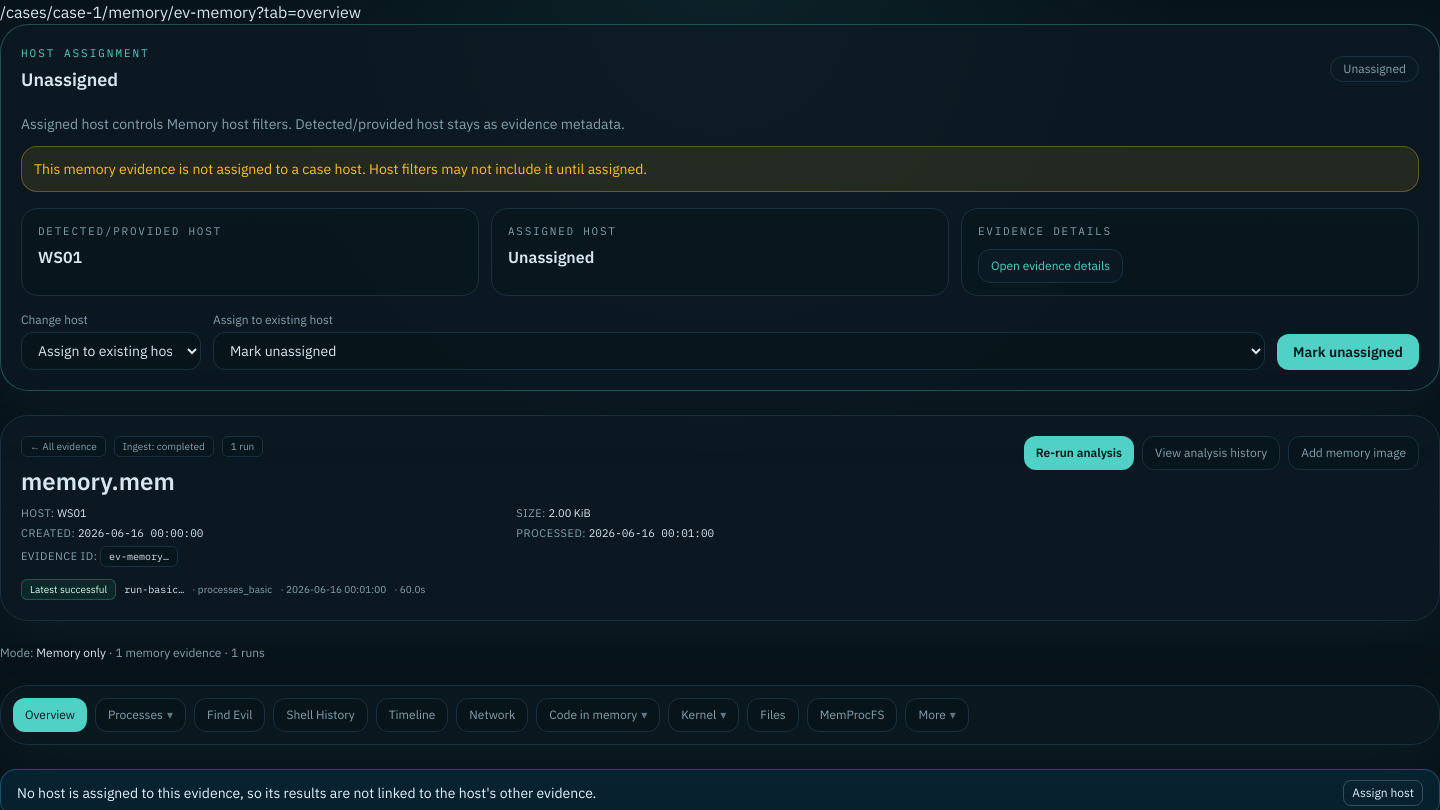
Test: MemoryAnalysisPage workspace › renders the Raw tab with legacy plugin observations
Click the tab with test id "memory-tab-group-more" at (937, 714), box x1=905 y1=698 x2=969 y2=732
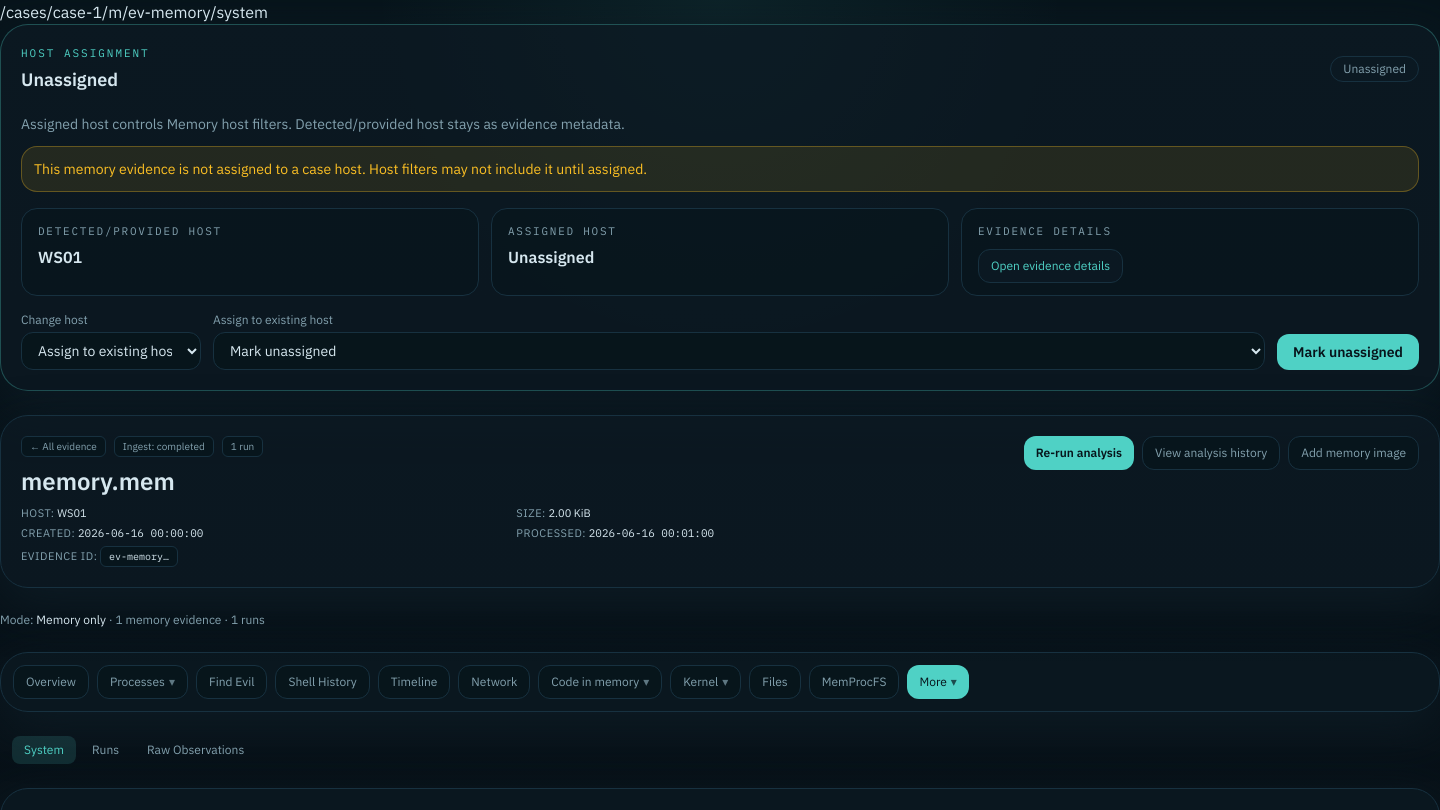
Click the tab with test id "memory-tab-raw" at (196, 750), box x1=135 y1=736 x2=256 y2=764
(page scrolled)
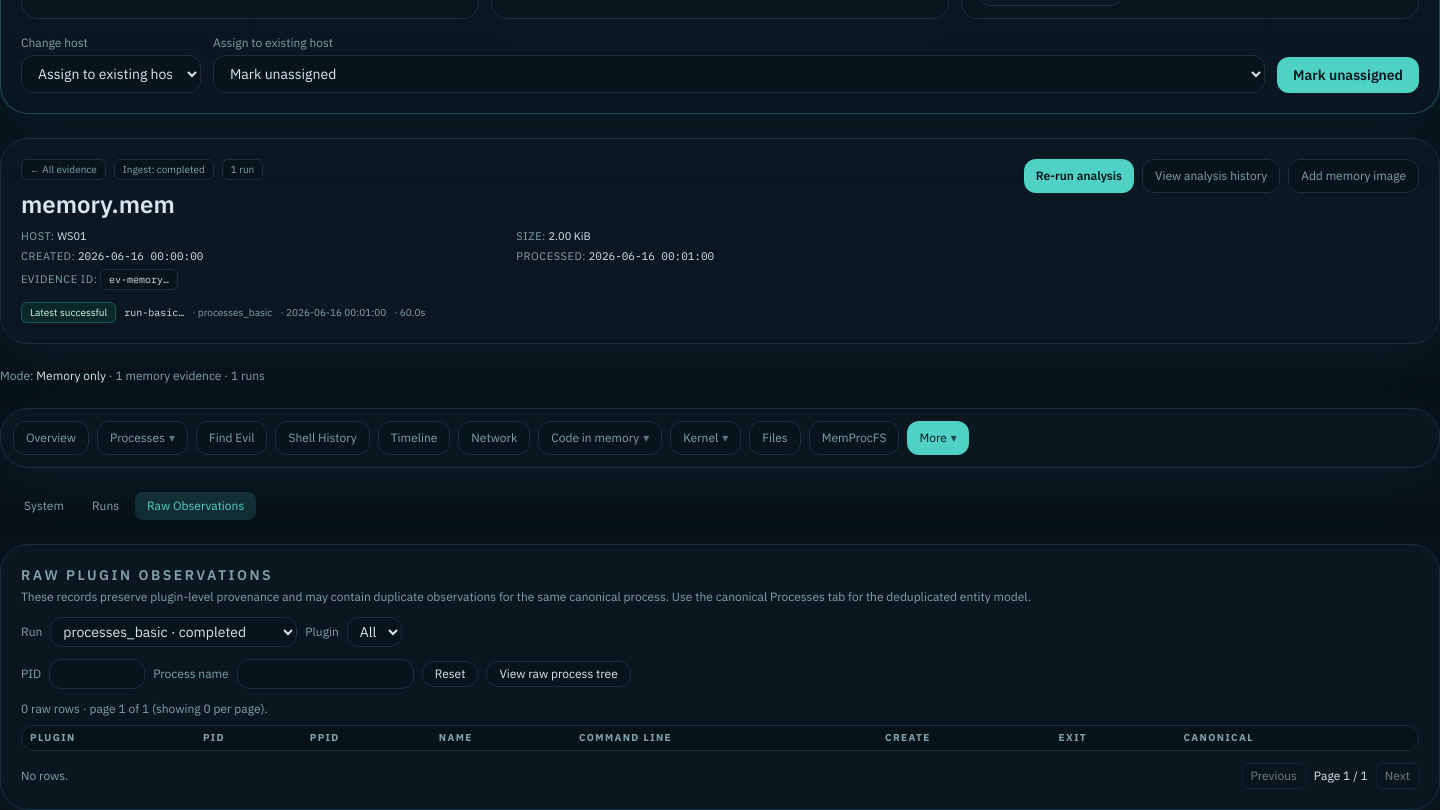
Now the element with test id "memory-raw-tab" is shown, box x1=0 y1=544 x2=1439 y2=809
Now the dropdown with test id "raw-plugin-filter" is shown, box x1=347 y1=616 x2=402 y2=646
